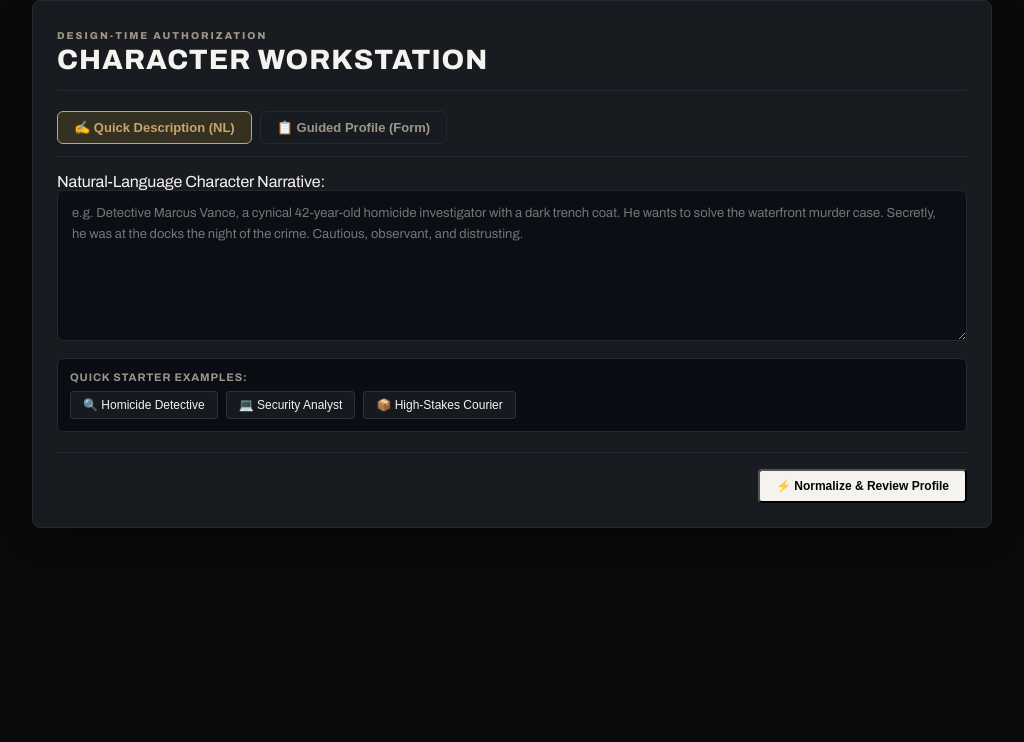
Test: CharacterWorkstation Component (Phase A) › displays Phase B Character Dynamics fields in Review Panel with Conscious Want and Dramatic Need distinction
Replace the text in the text box with placeholder "e.g. Detective Marcus Vance" with "Investigator prompt" at [512, 265], box [57,190,967,341]
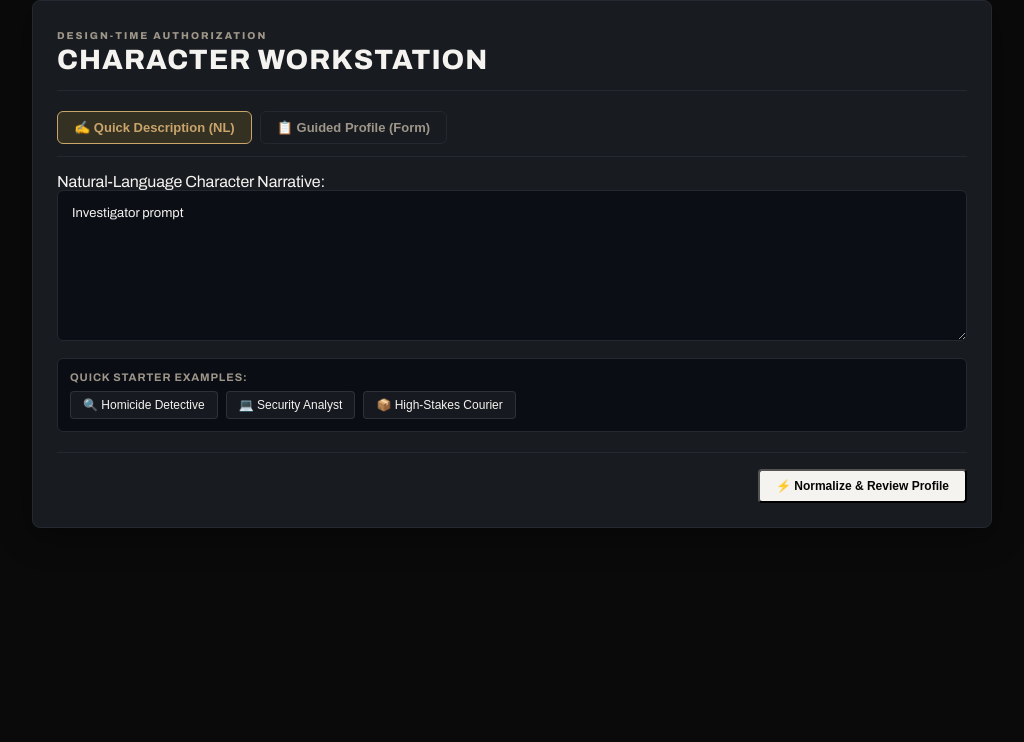
Click the button "⚡ Normalize & Review Profile" at [862, 486], box [758,469,967,503]
(page scrolled)
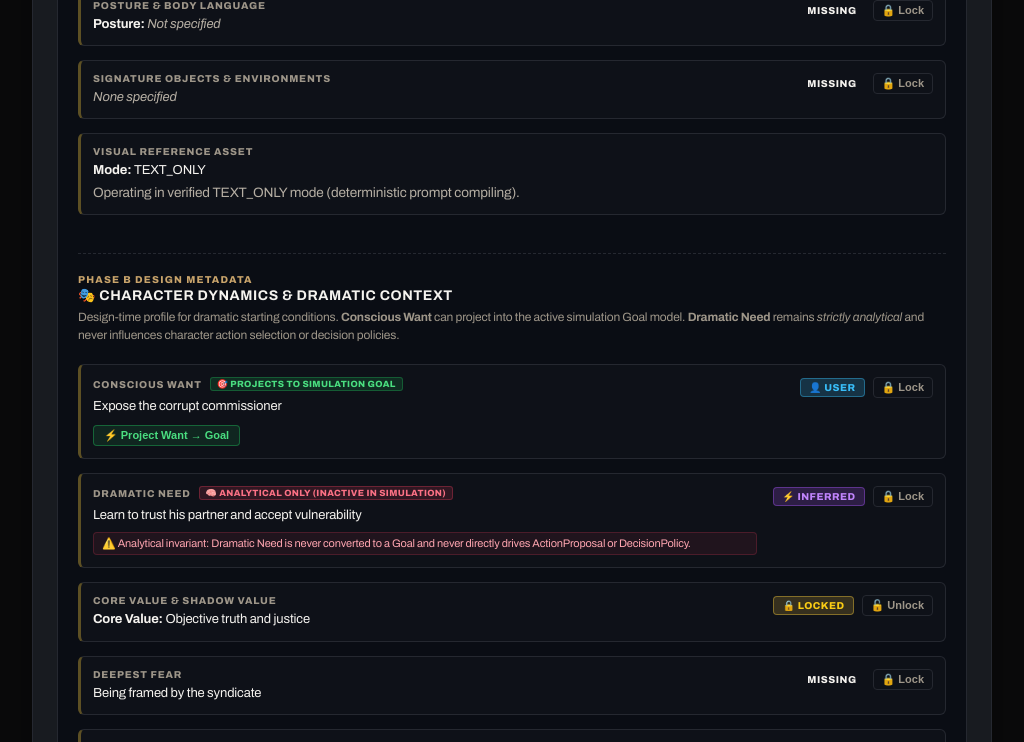
Expected: the heading "🎭 CHARACTER DYNAMICS & DRAMATIC CONTEXT" is shown, [78,288,453,303]
Expected: the text "Design-time profile for dramatic starting conditions" is shown, [78,310,341,324]
Expected: the text "Expose the corrupt commissioner" is shown, [93,399,282,413]
